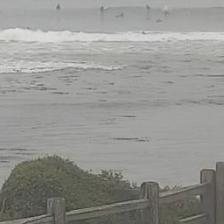surfer: (116, 12, 124, 18), (56, 3, 61, 10), (100, 5, 105, 12), (155, 18, 162, 23), (146, 4, 151, 10)
